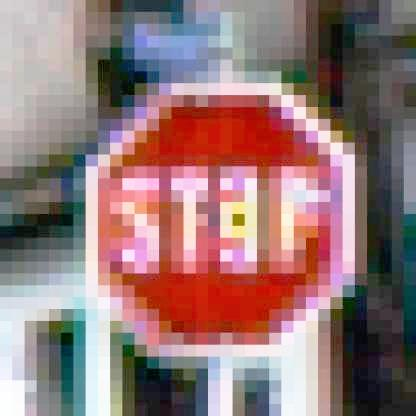Stop Sign: (82, 80, 364, 356)
